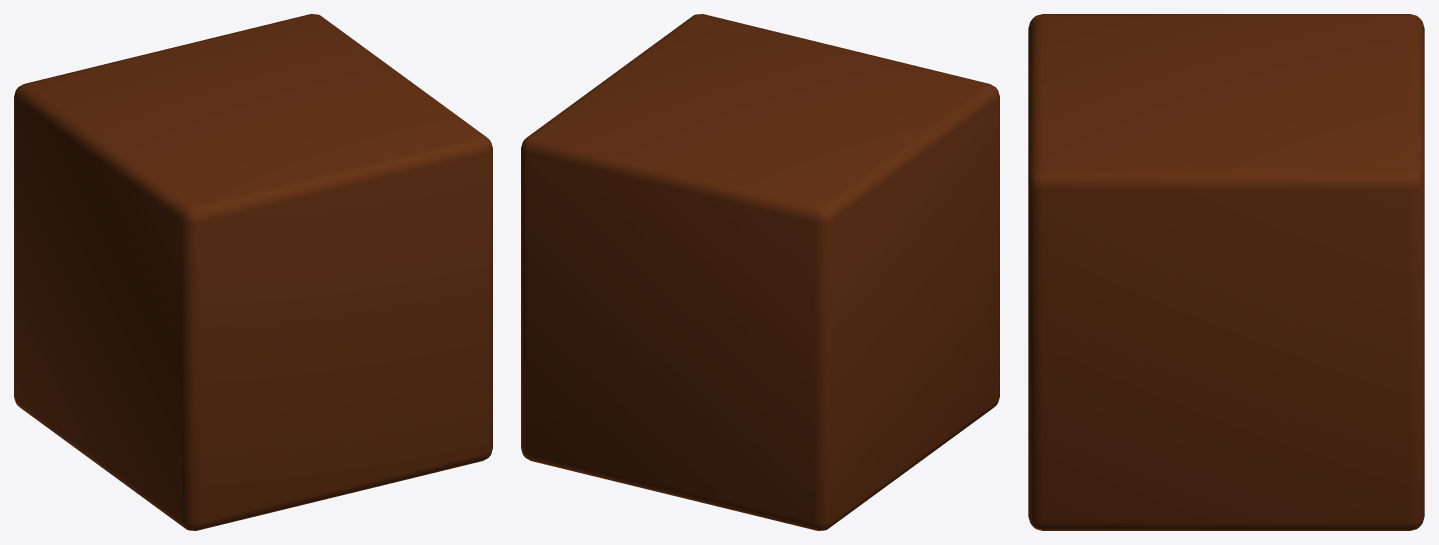
The model's file is platform.glb.
The picture shows the model from 3 angles, left to right: view 1: azimuth 30°, elevation 25°; view 2: azimuth 150°, elevation 25°; view 3: azimuth 270°, elevation 25°; orthographic projection. The views are drawn at different scales.
Parts seen in each view (by area): view 1: Cube; view 2: Cube; view 3: Cube.
Part boxes in pixels (bbox=[...]): Cube: bbox=[14, 14, 492, 530]; Cube: bbox=[521, 14, 999, 530]; Cube: bbox=[1028, 14, 1424, 530].
Size of the model in its own units: 2 by 2 by 2.
